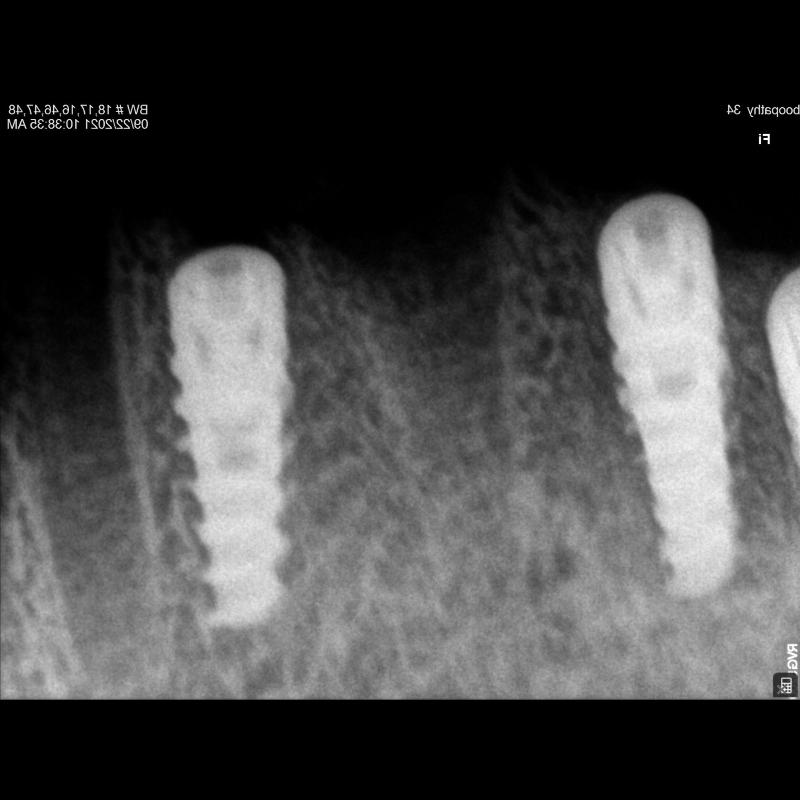ADIN: (565, 191, 767, 611), (164, 226, 318, 642)
